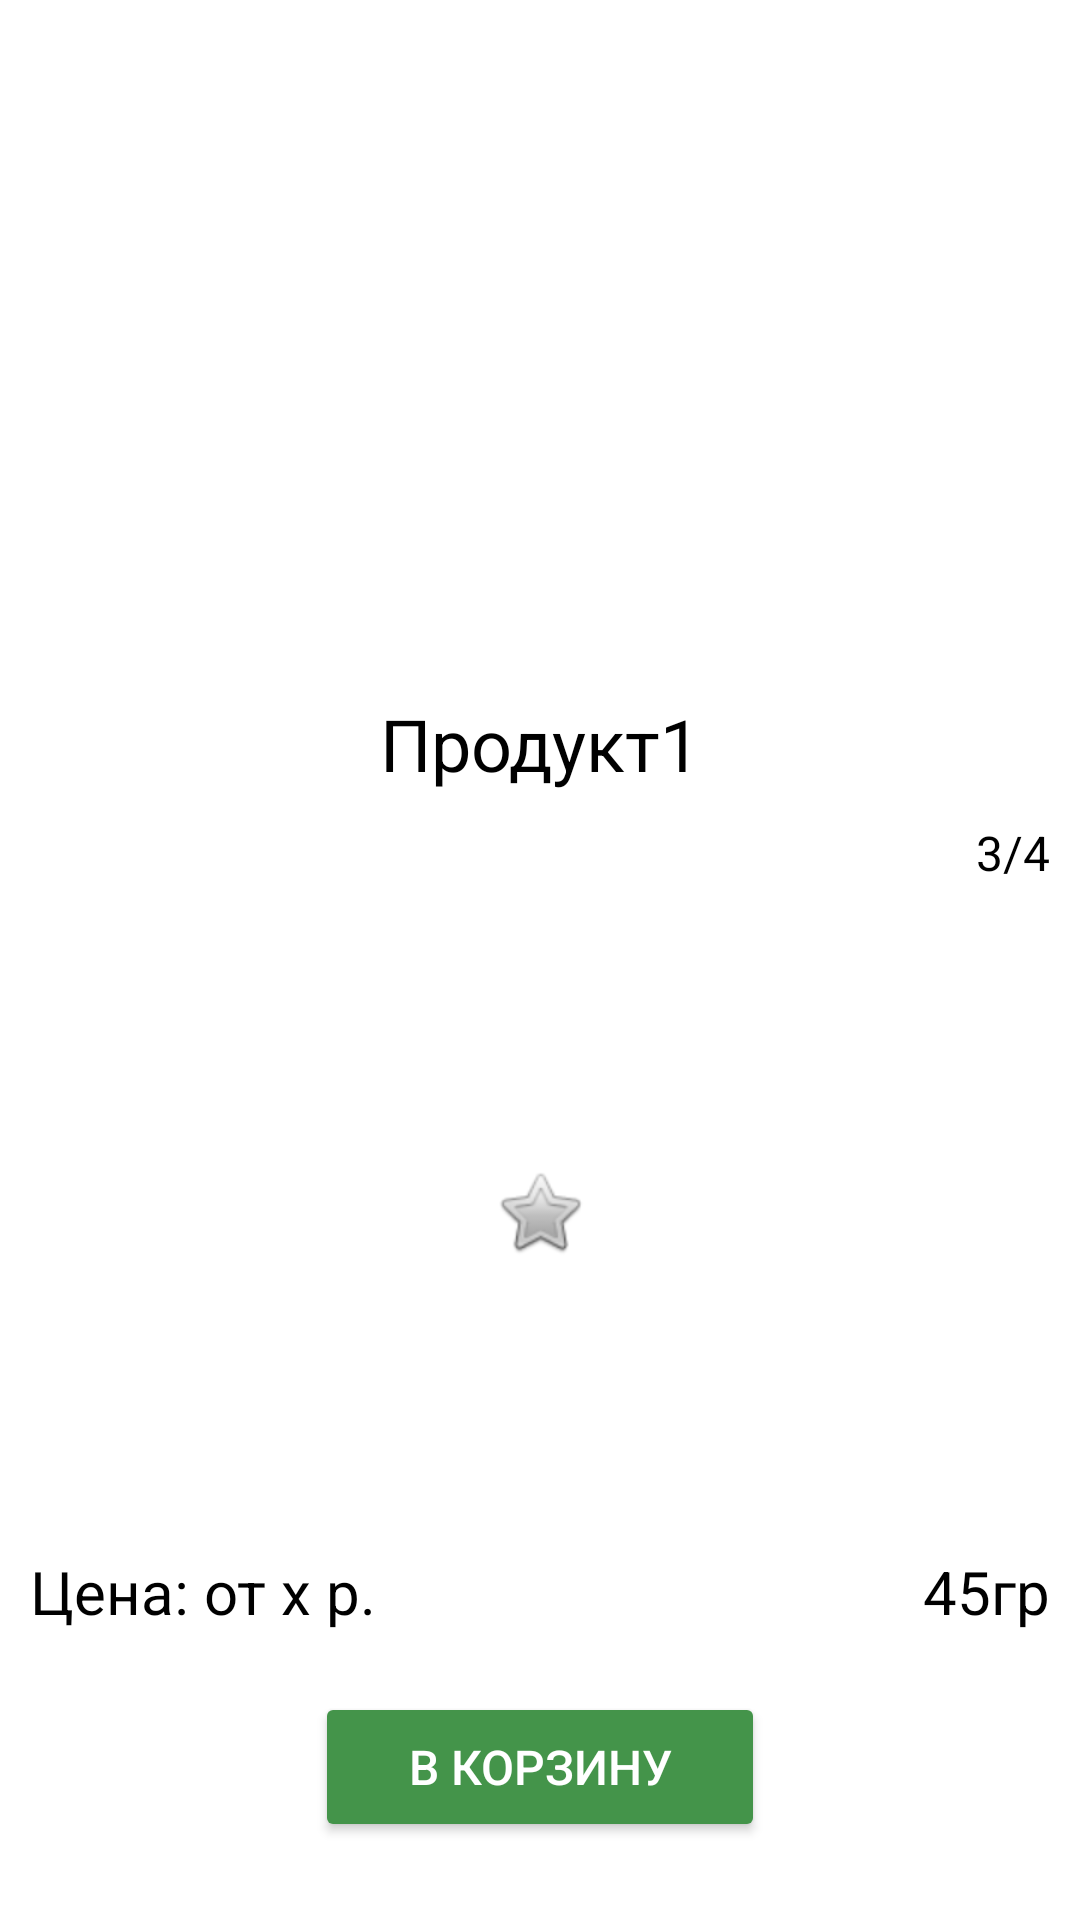

Icon bounding boxes for this 1080x1920 phone screenshot, format (x1, y1, x2, y2):
star: (501, 1174, 581, 1252)
